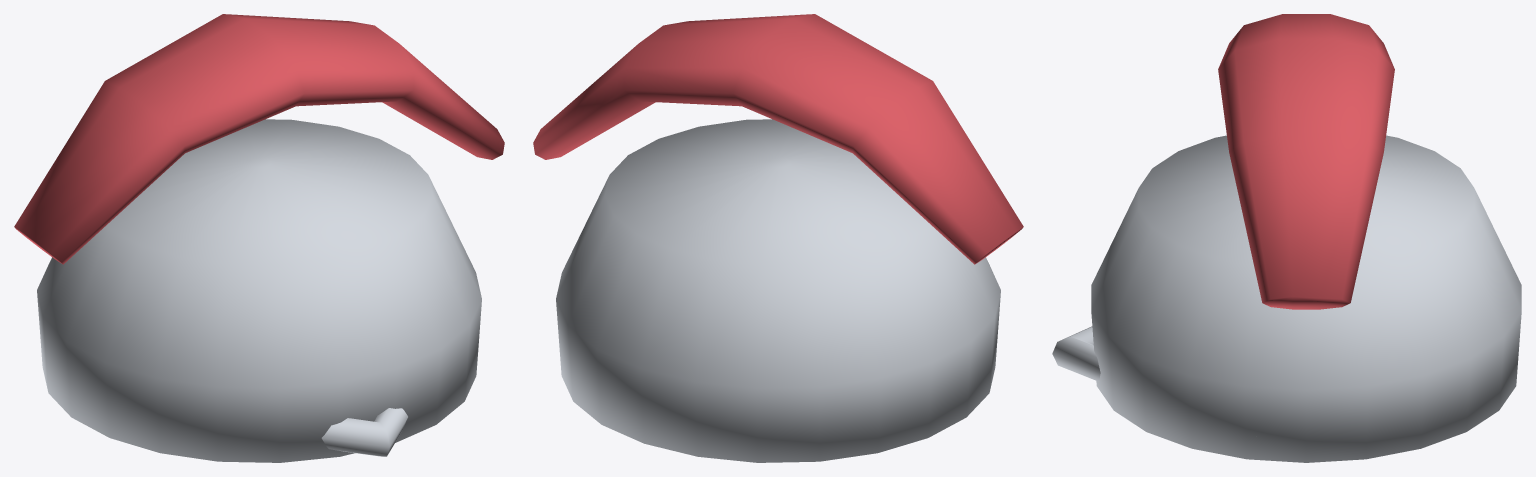
Rendered from helm_centurion.glb.
3 renders of one model, left to right at view 1: azimuth 30°, elevation 25°; view 2: azimuth 150°, elevation 25°; view 3: azimuth 270°, elevation 25°, orthographic. The views are drawn at different scales.
Visible parts, largest first — view 1: GaleaBowl, GaleaCrestFan, GaleaBrowPeak; view 2: GaleaBowl, GaleaCrestFan; view 3: GaleaBowl, GaleaCrestFan, GaleaBrowPeak.
Part boxes in pixels (bbox=[...]): GaleaBowl: bbox=[37, 119, 481, 462]; GaleaCrestFan: bbox=[14, 14, 504, 264]; GaleaBrowPeak: bbox=[321, 408, 407, 456]; GaleaBowl: bbox=[556, 119, 1000, 462]; GaleaCrestFan: bbox=[533, 14, 1023, 264]; GaleaBowl: bbox=[1091, 135, 1521, 462]; GaleaCrestFan: bbox=[1218, 14, 1394, 309]; GaleaBrowPeak: bbox=[1052, 326, 1100, 381].
Bounding box in the file's own units: 0.2824 × 0.2003 × 0.2548.
